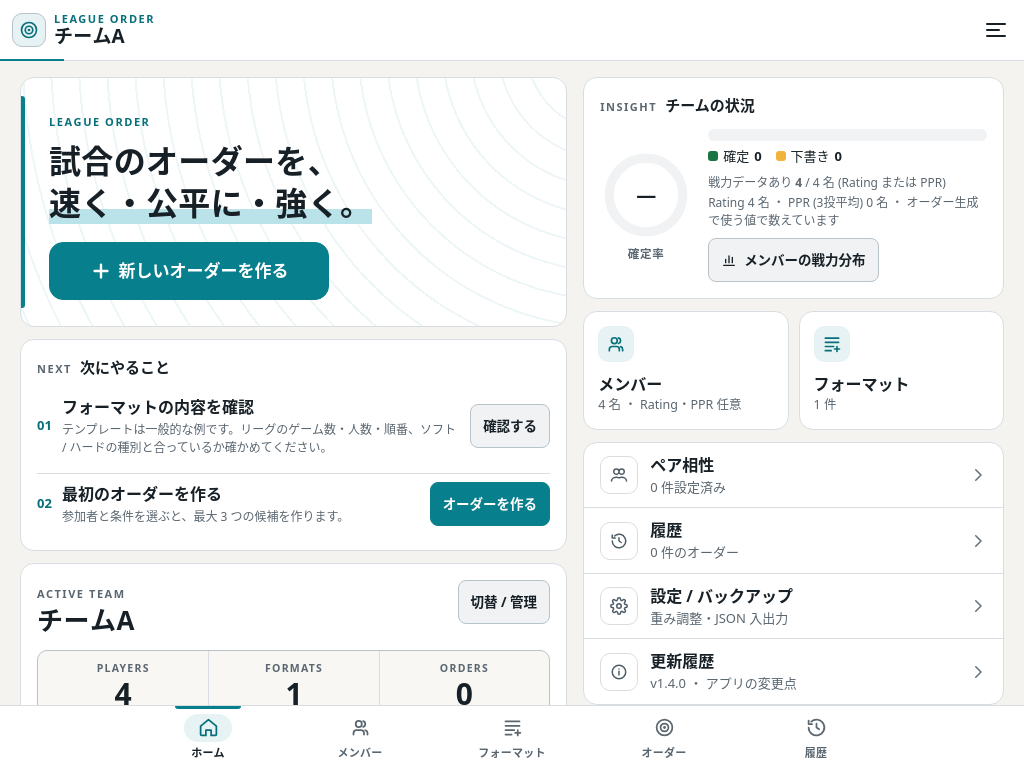
Scenario: league rules in the app › a format without rules shows nothing of them and asks nothing
Expected: the navigation bar named "メインナビゲーション" is shown, [0, 705, 1023, 767]
Click the button "ホーム".
click(208, 737)  # box [132, 706, 284, 767]
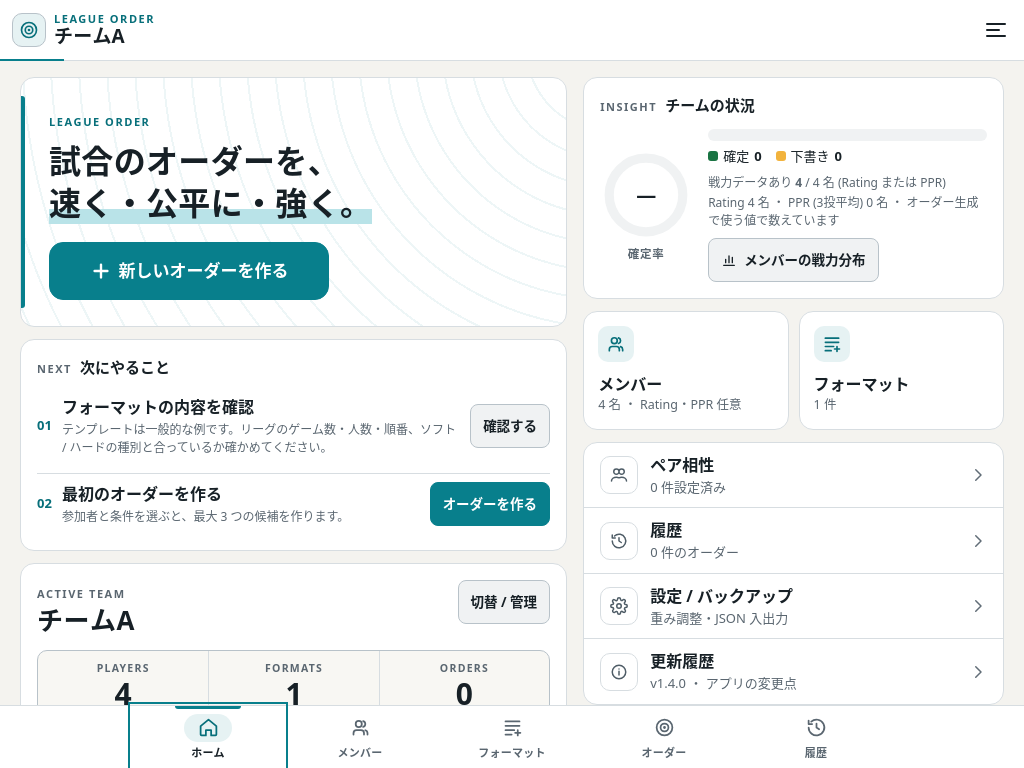
Click the button "新しいオーダーを作る".
click(189, 272)  # box [49, 242, 329, 300]
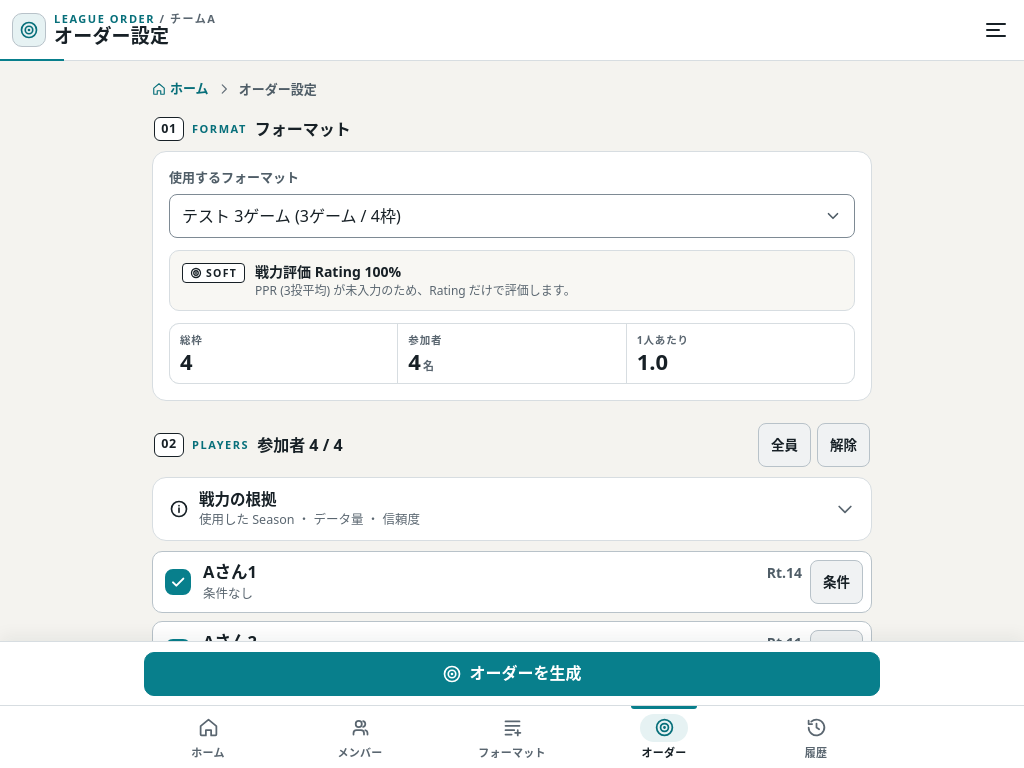
Expected: the heading named "オーダー設定" is shown, [53, 22, 169, 49]
Click the button "オーダーを生成".
click(512, 674)  # box [144, 652, 880, 696]
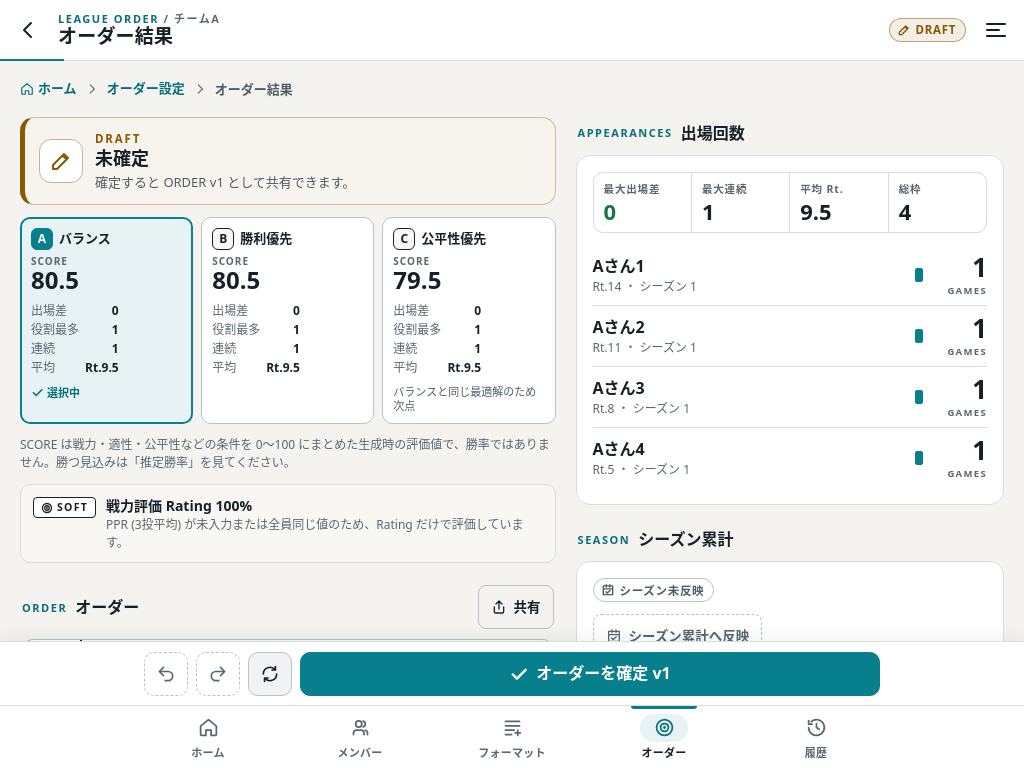
Result: the button "オーダーを確定 v1" is shown at [300, 652, 880, 696]
